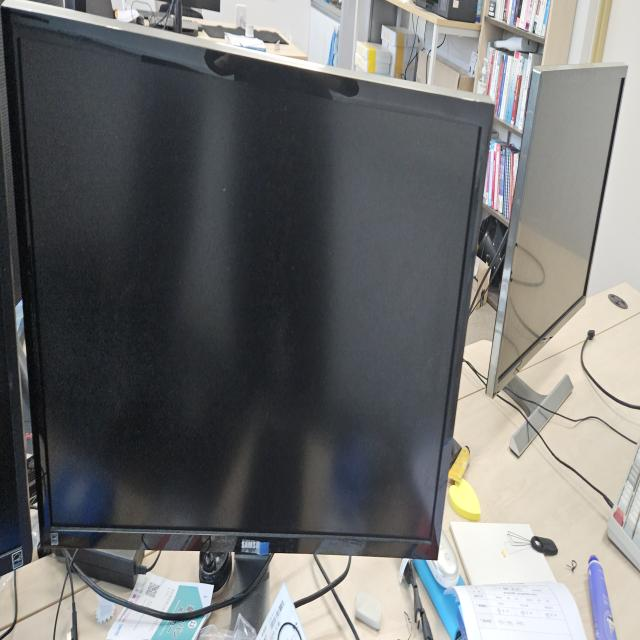Monitor: (3, 3, 496, 586)
